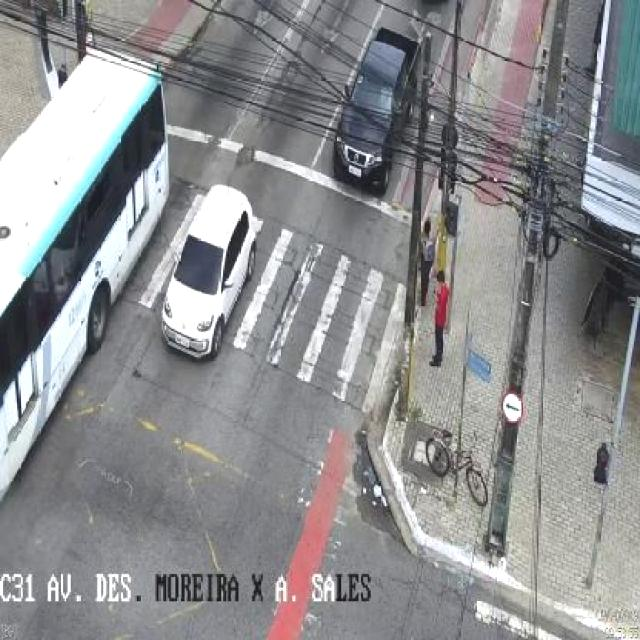Bus: (0, 43, 174, 508)
Car: (159, 184, 257, 360)
Cycle: (424, 428, 490, 508)
Truck: (330, 28, 424, 196)
